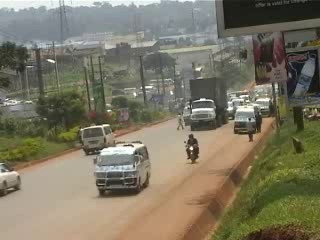Car: (0, 159, 24, 197), (226, 99, 236, 120)
Motorcycle: (182, 131, 202, 165)
